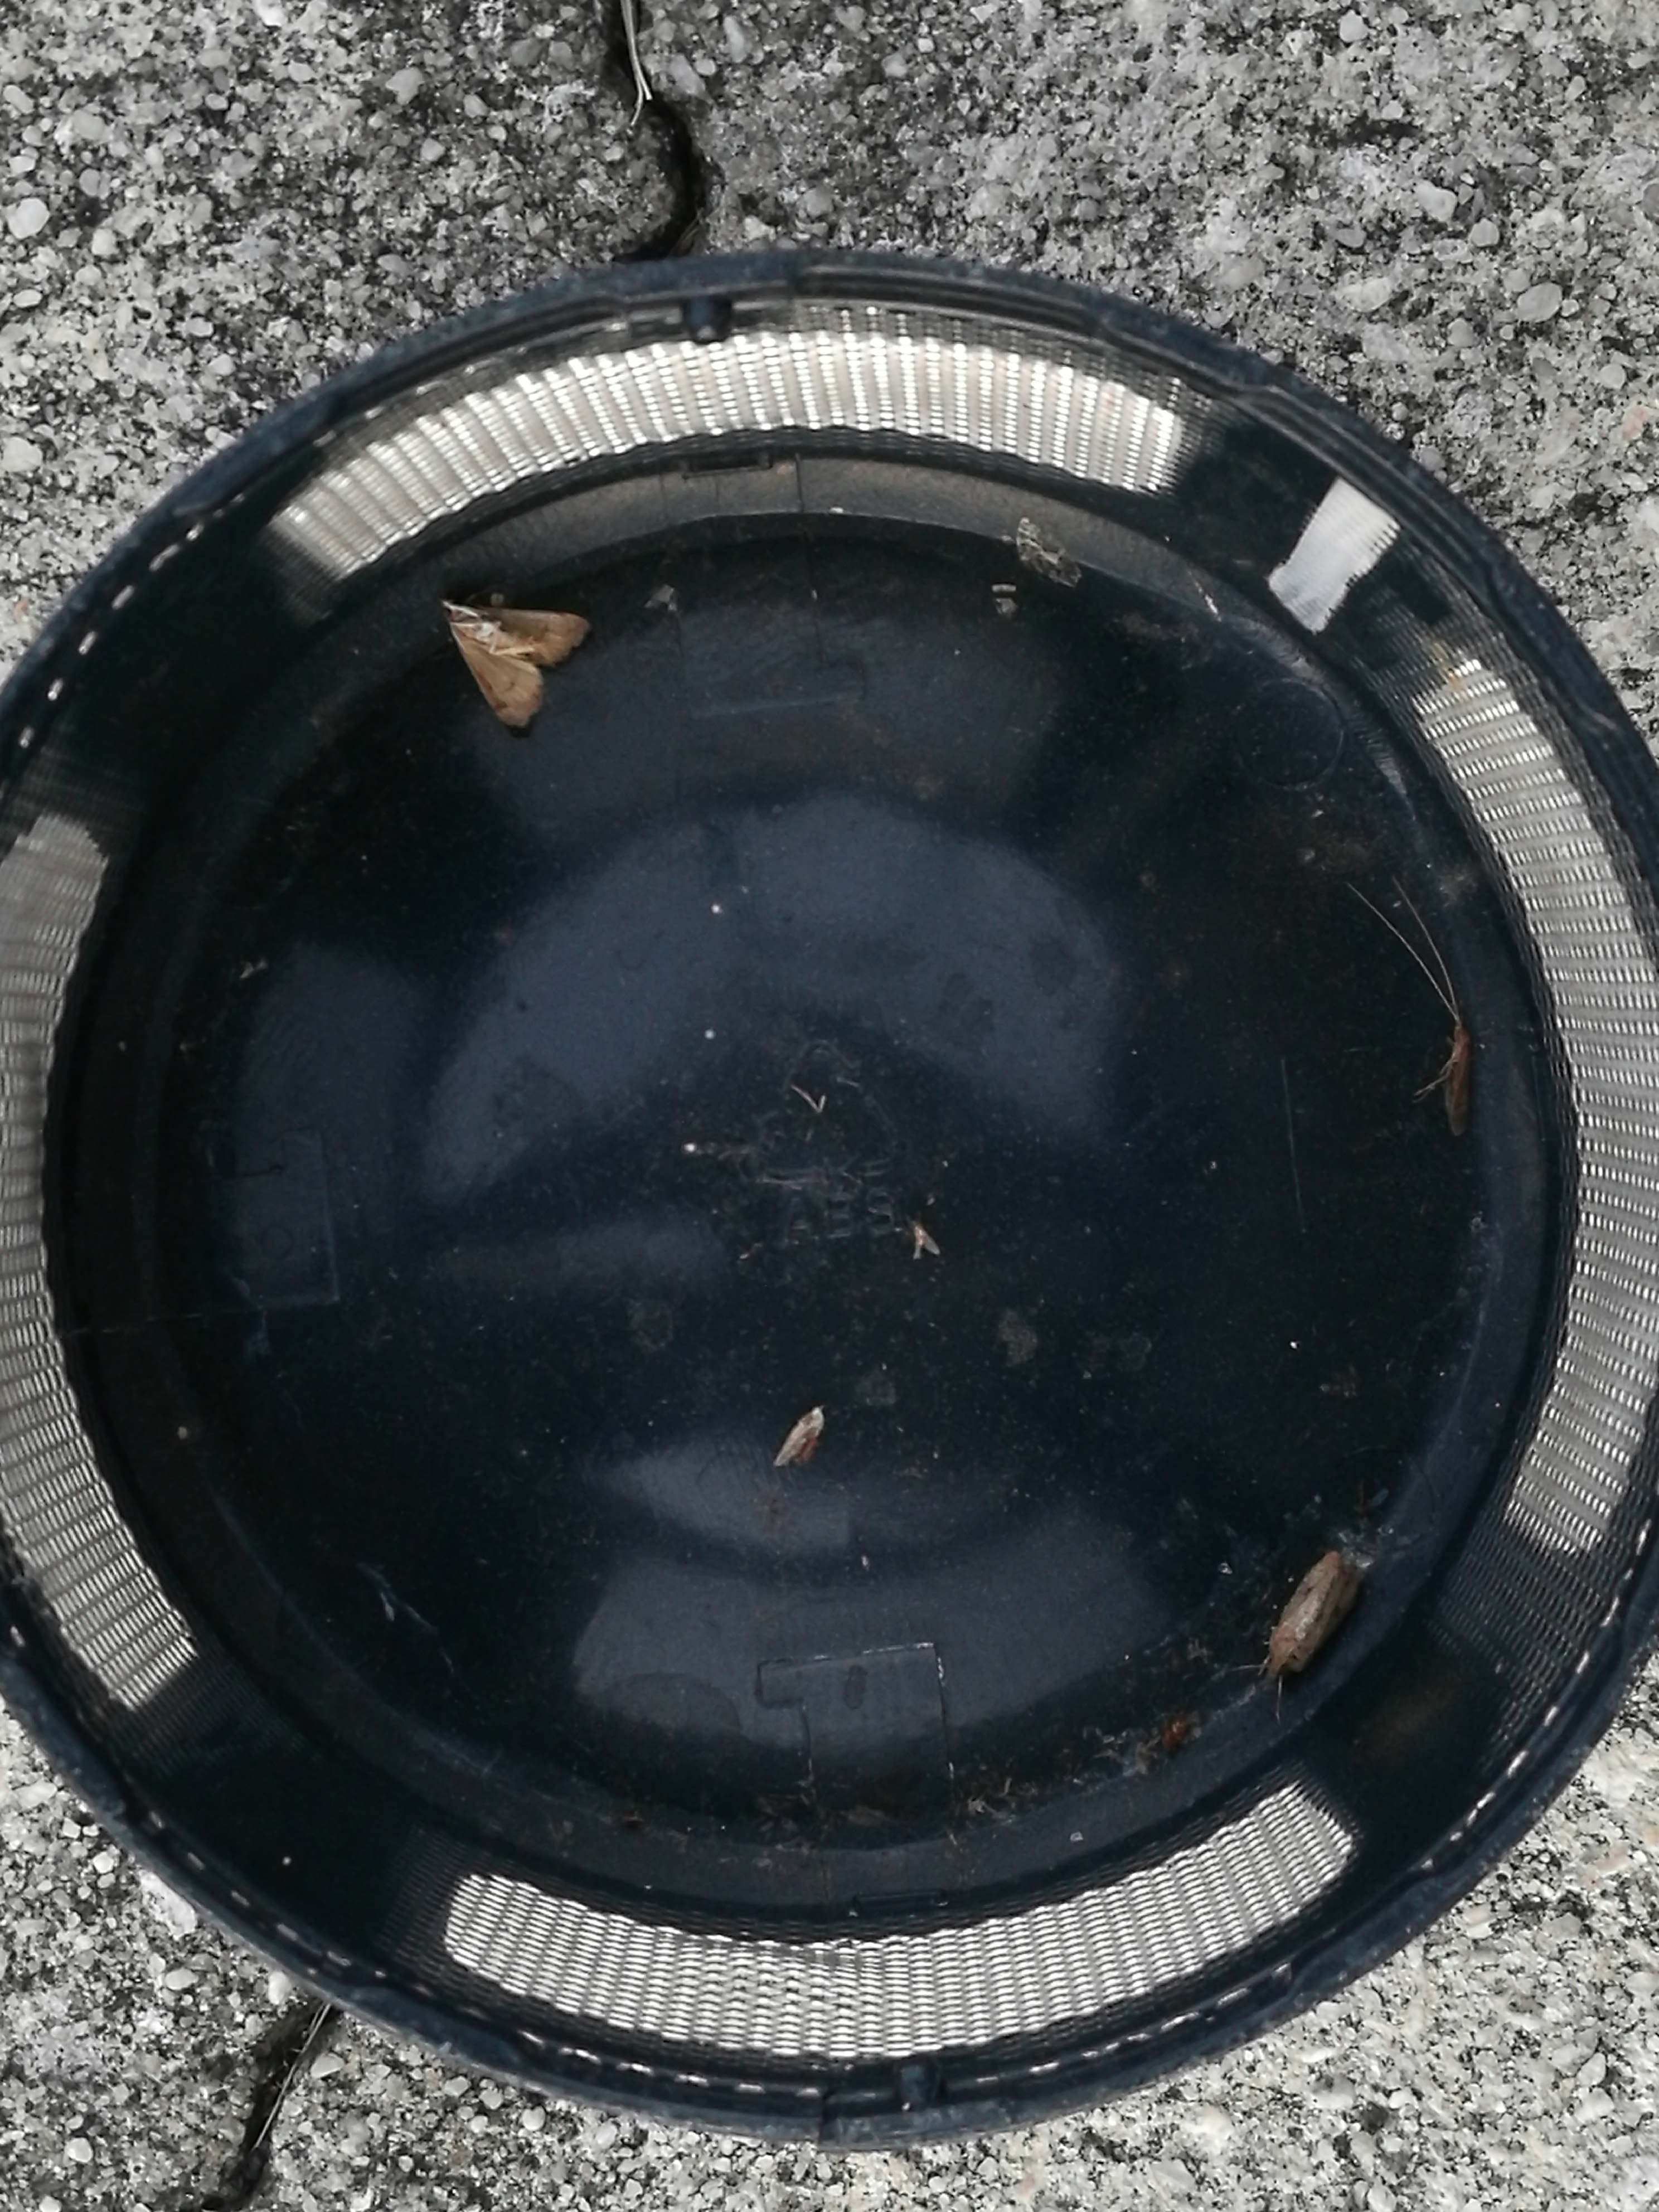mosquito: (1445, 1015, 1466, 1136)
moth: (443, 603, 592, 726), (1267, 1547, 1368, 1681)
